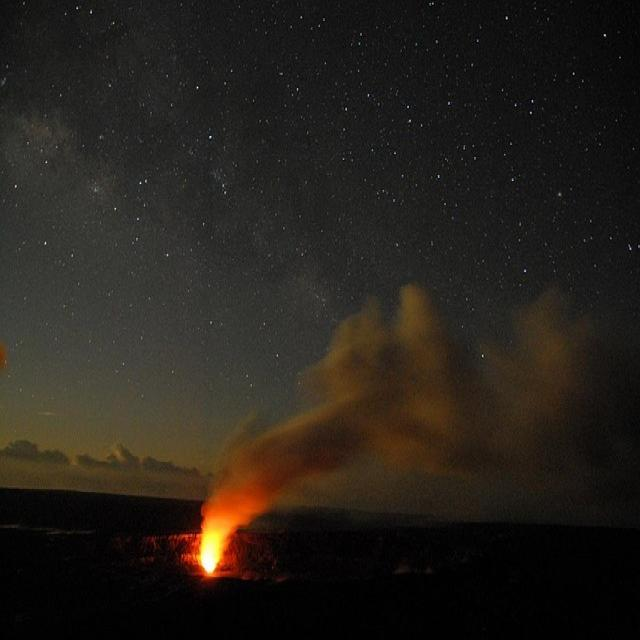Fire: (194, 497, 234, 587)
Smoke: (305, 268, 640, 478), (350, 330, 454, 465), (252, 434, 330, 488)
